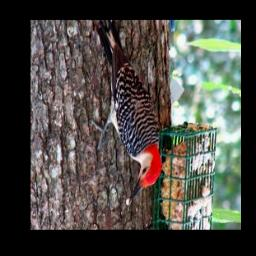Woodpecker: (87, 21, 161, 205)
